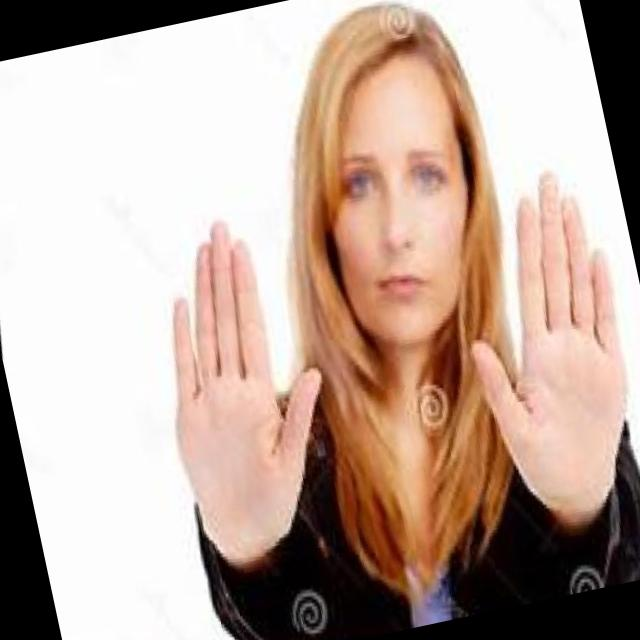not-gloved: (110, 188, 370, 574), (404, 142, 640, 546)
